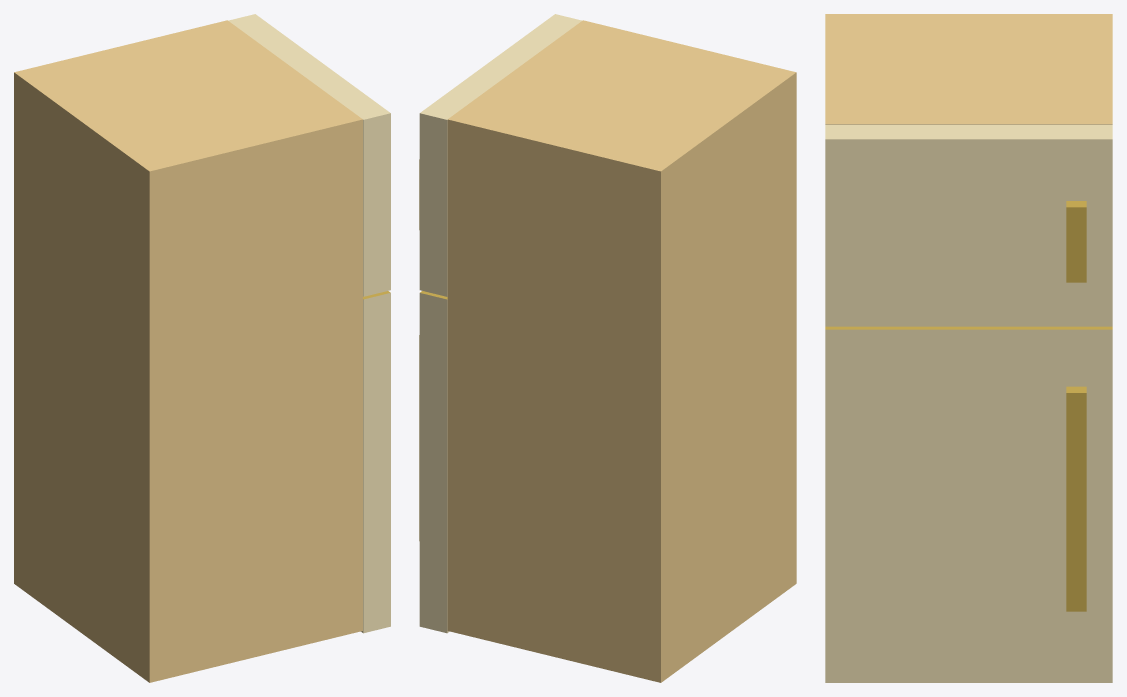
File: Refri.fbx
3 views of the same model, side by side, from view 1: azimuth 30°, elevation 25°; view 2: azimuth 150°, elevation 25°; view 3: azimuth 270°, elevation 25° (orthographic). The views are drawn at different scales.
Parts seen in each view (by area): view 1: refrigerador; view 2: refrigerador; view 3: refrigerador.
Part boxes in pixels (x1,y1,x2,y2): refrigerador: (14, 14, 390, 682); refrigerador: (419, 14, 796, 682); refrigerador: (825, 14, 1112, 682).
Size of the model in its own units: 238 by 460 by 220.
